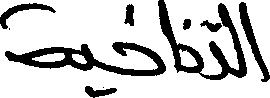X: (0, 0, 67, 73), (114, 0, 162, 97), (164, 0, 201, 80), (245, 0, 269, 86), (210, 0, 227, 84), (229, 0, 243, 82), (83, 39, 93, 97)
